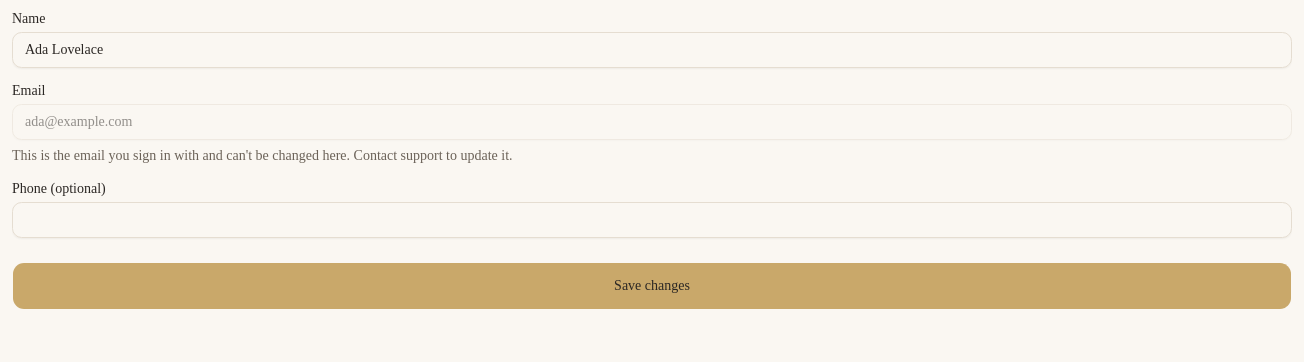
Scenario: ProfileForm › surfaces a server-side rejection instead of claiming the save worked
Click the button "Save changes" at [652, 286], box [12,262,1292,310]
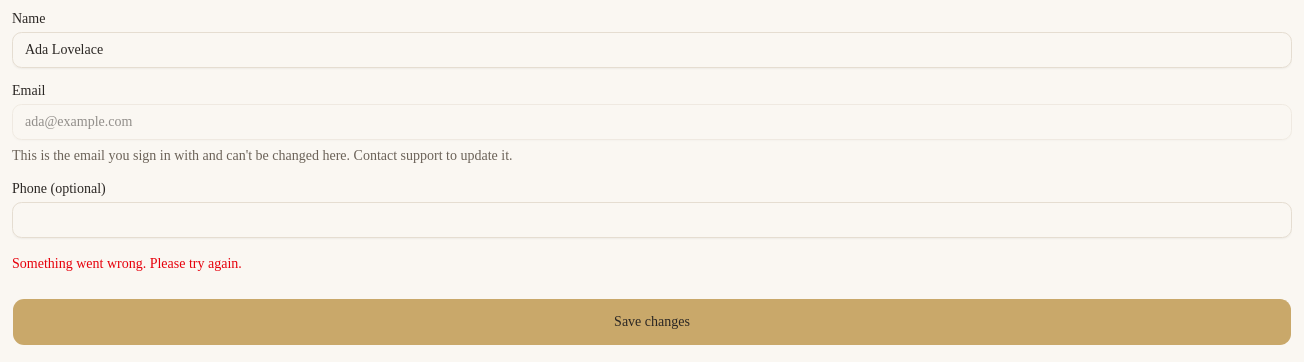
Now the message shows "Something went wrong", box [12,256,242,271]
